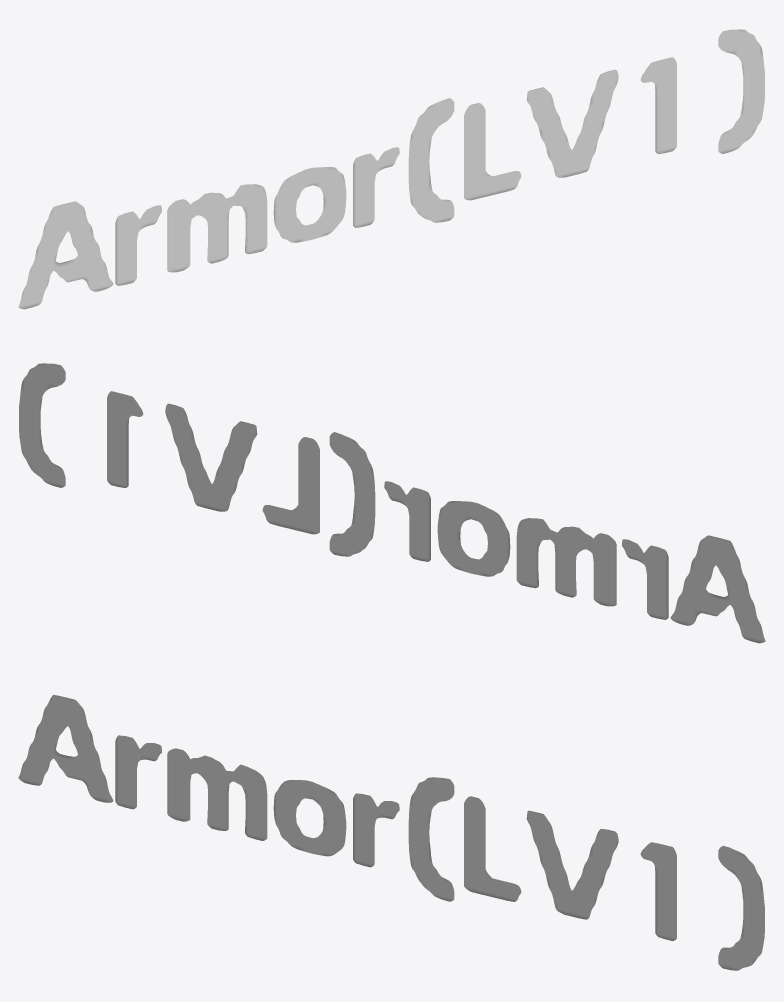
File: Mesh_73_61f5c2fa__Watford_DB-18_d27661a7_9c9708.obj
3 views of the same model, one above another, from view 1: azimuth 30°, elevation 25°; view 2: azimuth 150°, elevation 25°; view 3: azimuth 330°, elevation 25° (orthographic).
Bounding box in the file's own units: 52.5 × 9.5 × 0.
Materials: 1 (1 with a texture image).
